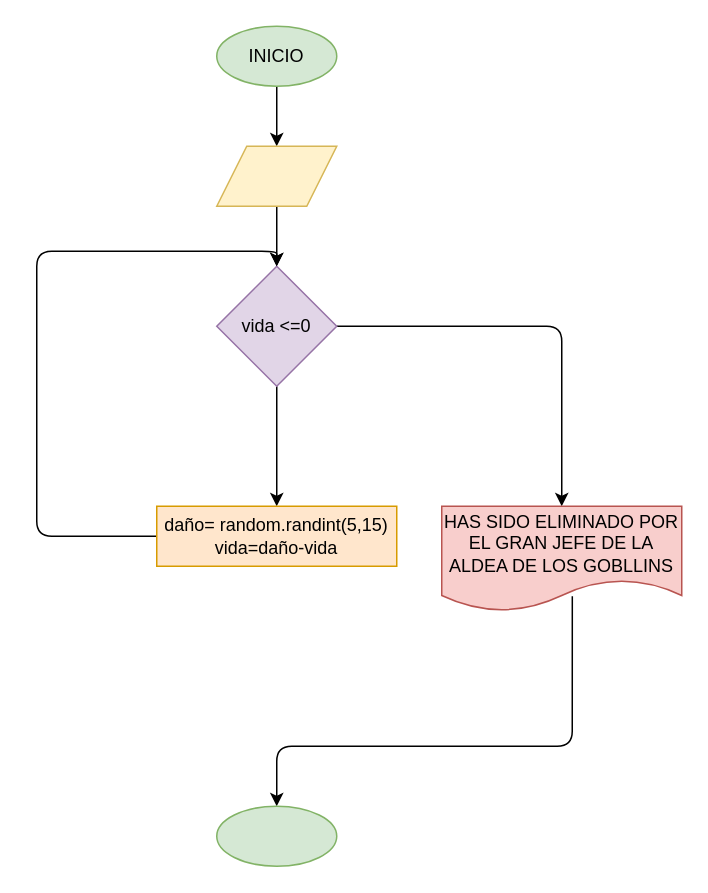
This 708x893 diagram has some shape labels left out. Each missing label, with the centre of its shape:
FIN: point 276,835
vida:50: point 276,175
